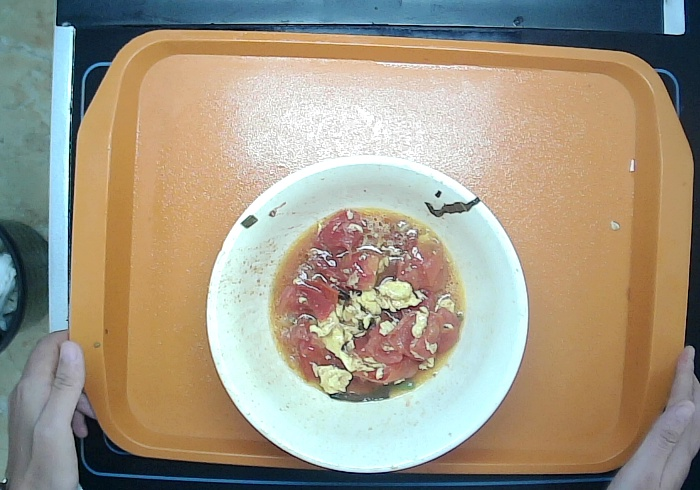ZNLD-Da_Tang_Wan: (196, 150, 535, 478)
